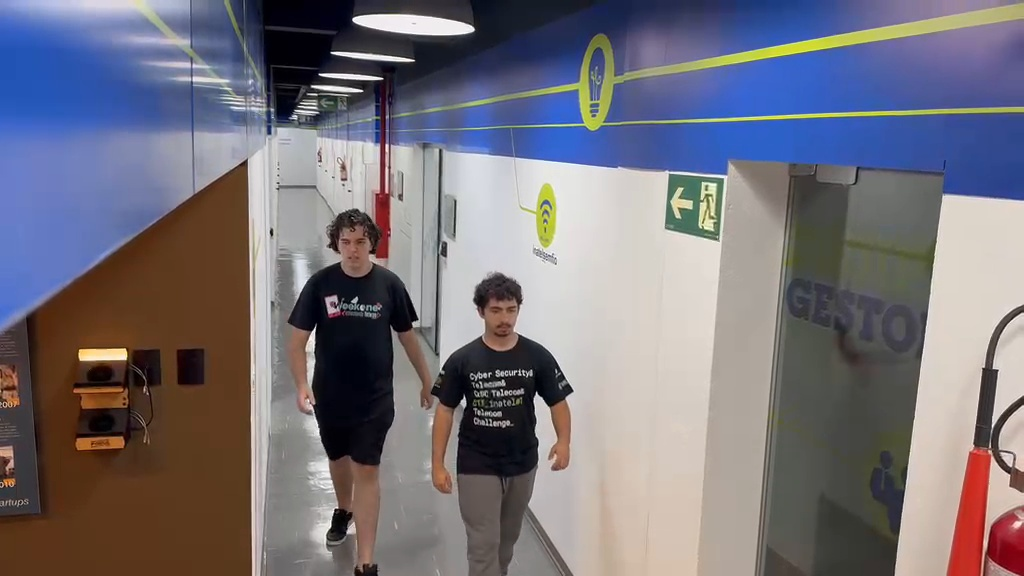person: (284, 208, 439, 573), (428, 271, 575, 573)
